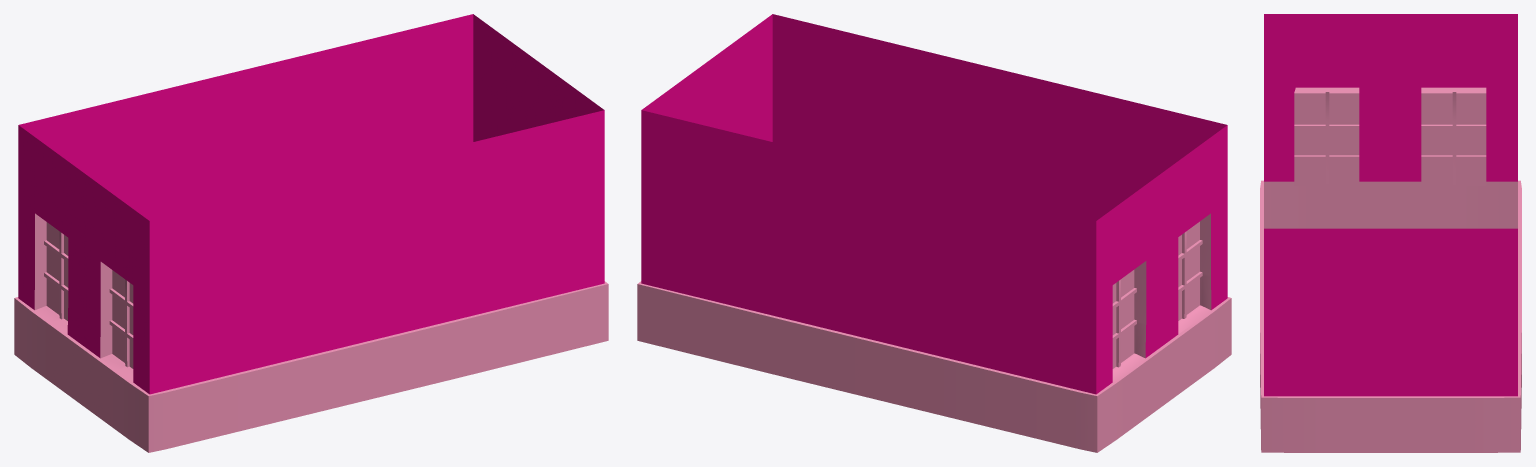
Rendered from Bottom4.fbx.
3 renders of one model, left to right at view 1: azimuth 30°, elevation 25°; view 2: azimuth 150°, elevation 25°; view 3: azimuth 270°, elevation 25°, orthographic. The views are drawn at different scales.
Visible parts, largest first — view 1: B4; view 2: B4; view 3: B4.
Boxes of the visible parts, x1=… form: B4: x1=14, y1=14, x2=608, y2=452; B4: x1=637, y1=14, x2=1231, y2=452; B4: x1=1260, y1=14, x2=1521, y2=452.
Size of the model in its own units: 8.12 by 3.87 by 4.12.
